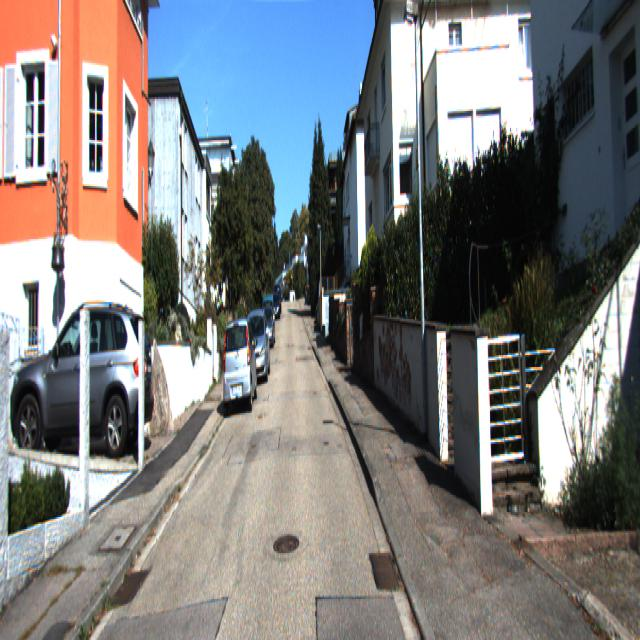Car: (12, 293, 158, 460), (220, 312, 258, 416), (240, 309, 272, 386), (258, 306, 276, 349)
